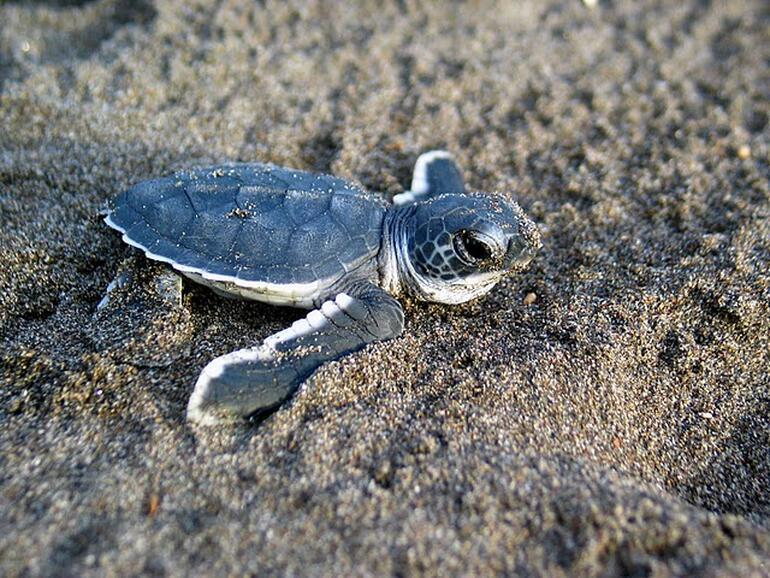turtle: (390, 186, 548, 308)
